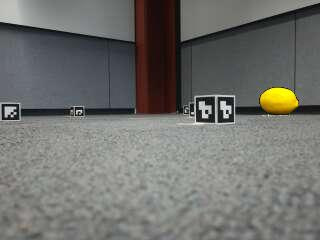lemon: (261, 88, 299, 114)
